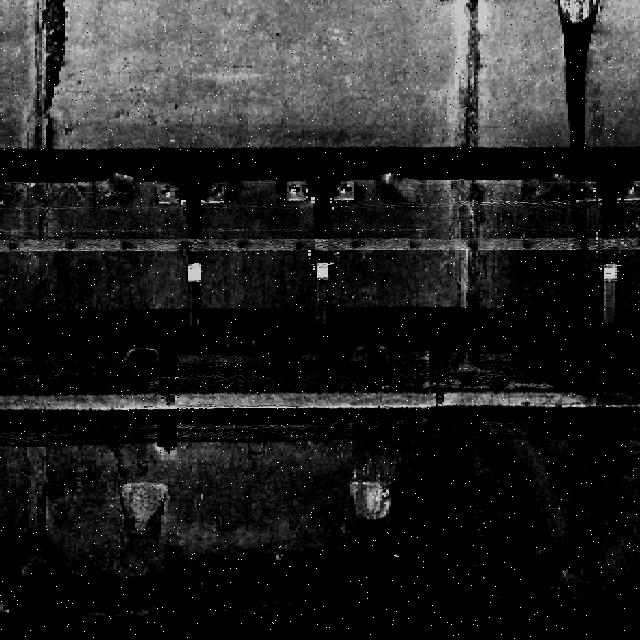leakage: (5, 426, 640, 640), (561, 1, 592, 581), (21, 1, 76, 150)
